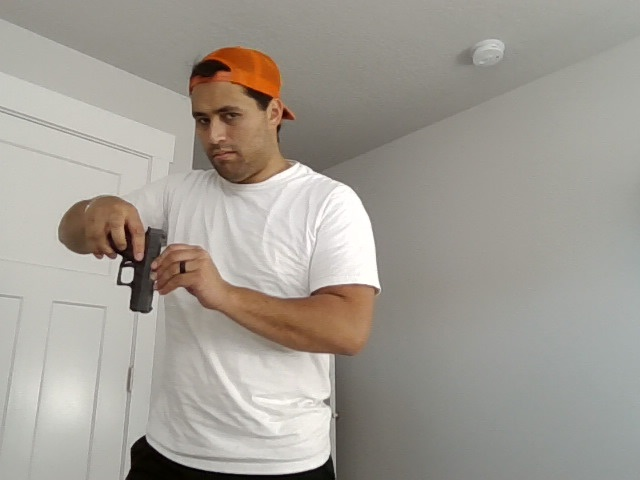handgun: (104, 223, 167, 315)
